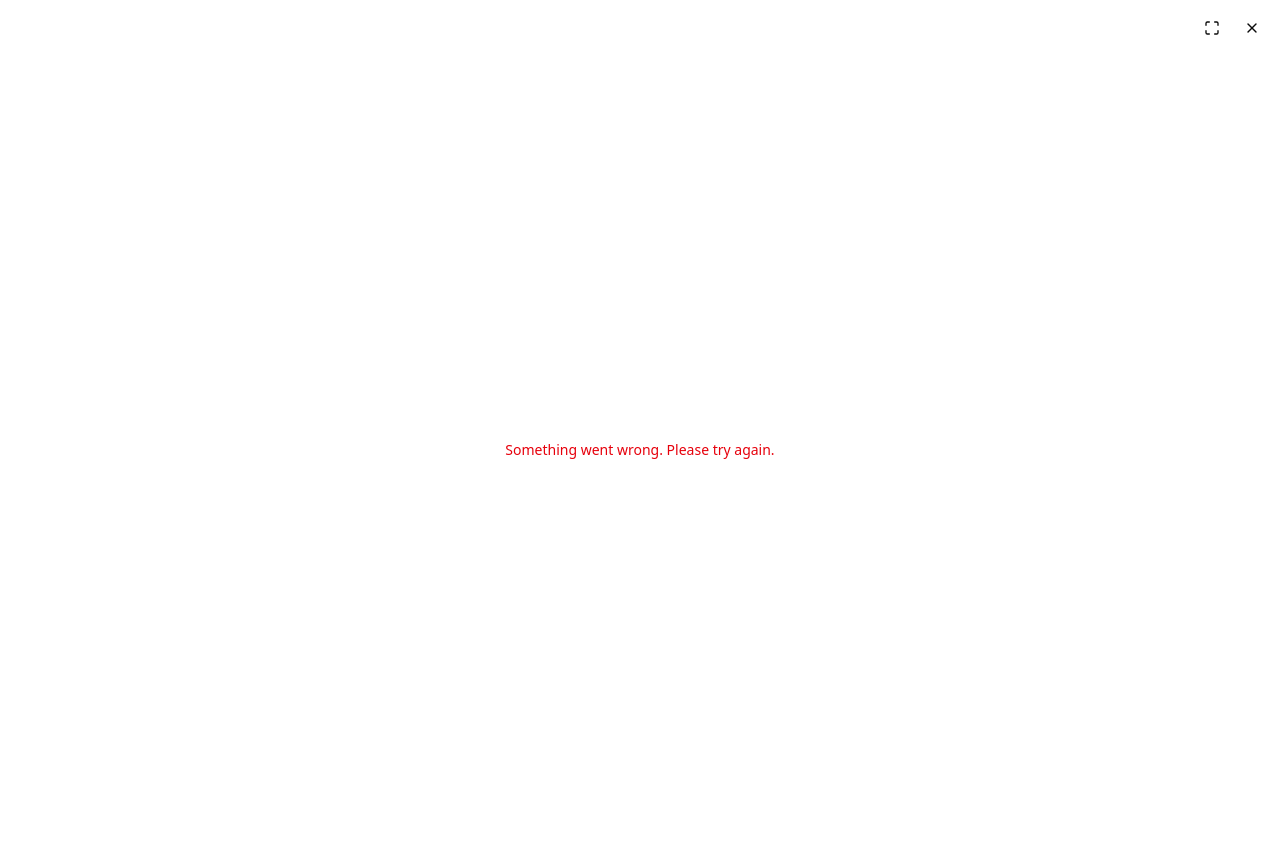
Test case: NotePage × 簡報（spec §6.1、§6.5、§13.2） › test 20：解析回 500 → 外殼錯誤態＋×；× 離開
expect the message reads "Something went wrong. Please try again.": met, box [505,440,775,459]
Click the button named "Exit presentation" at (1252, 28), box [1236,12,1268,44]
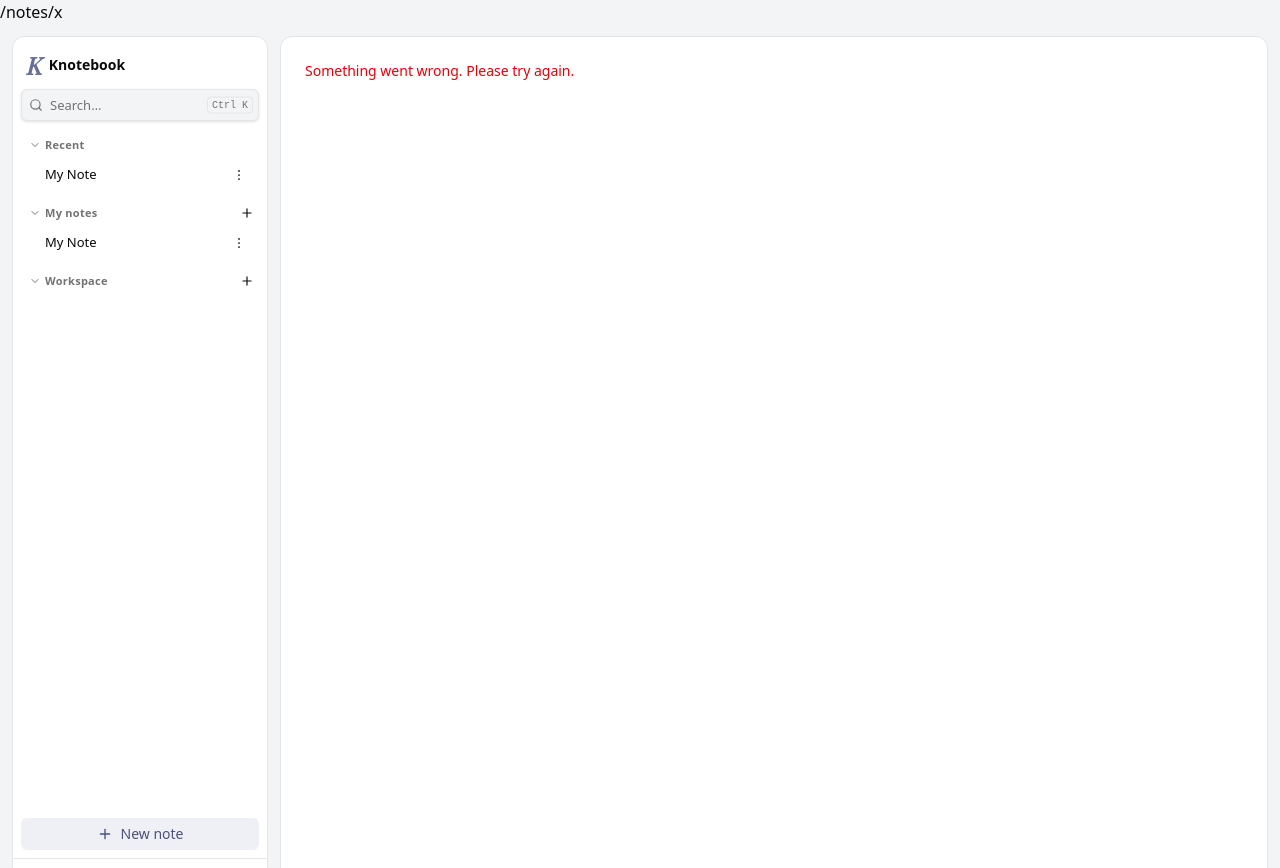
expect the text with test id "loc" reads "/notes/x": met, box [0,1,62,23]
